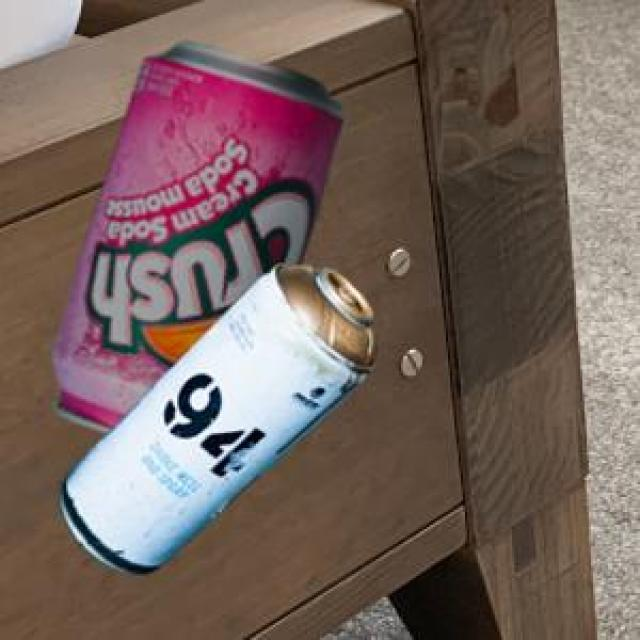Can: (50, 39, 340, 430), (57, 261, 372, 571)
